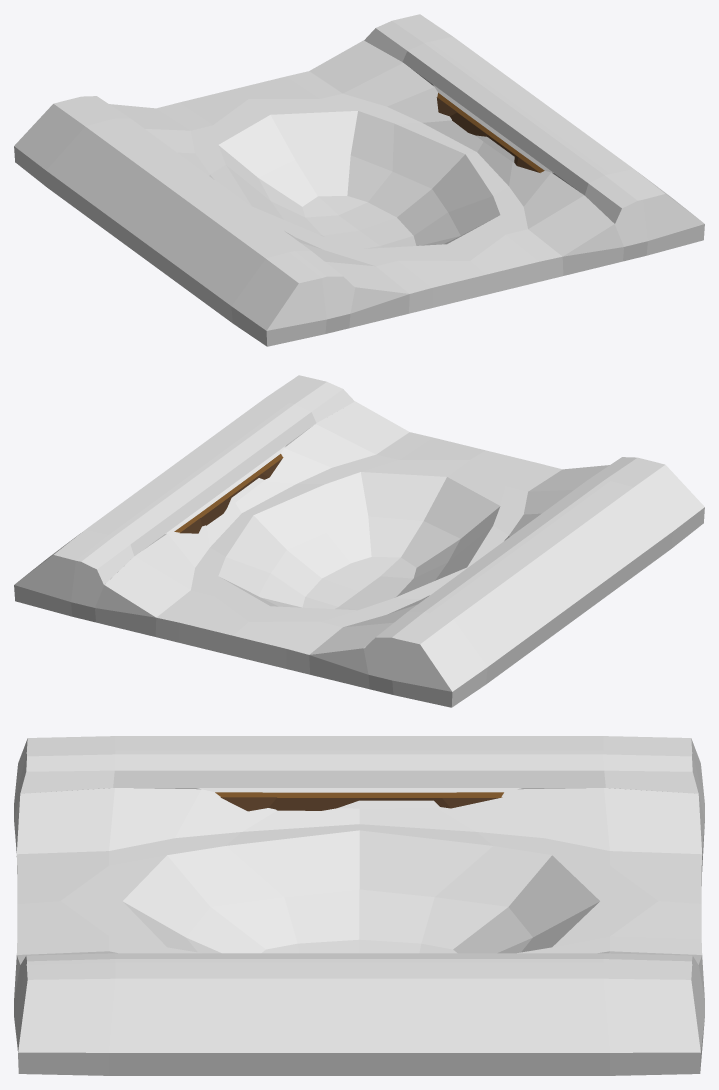
File: champ.fbx
3 renders of one model, top to bottom at view 1: azimuth 30°, elevation 25°; view 2: azimuth 150°, elevation 25°; view 3: azimuth 270°, elevation 25°, orthographic. The views are drawn at different scales.
Parts seen in each view (by area): view 1: Plane.005; view 2: Plane.005; view 3: Plane.005.
Part boxes in pixels (x1,y1,x2,y2): Plane.005: (14,14,704,346); Plane.005: (14,375,704,707); Plane.005: (14,736,704,1075).
Size of the model in its own units: 206 by 40.71 by 207.
Materials: 2 (1 with a texture image).
